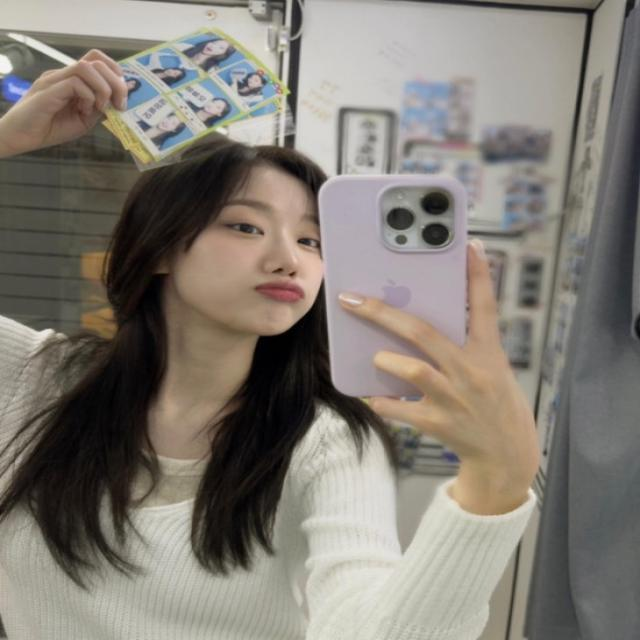Mobile: (317, 171, 472, 404)
